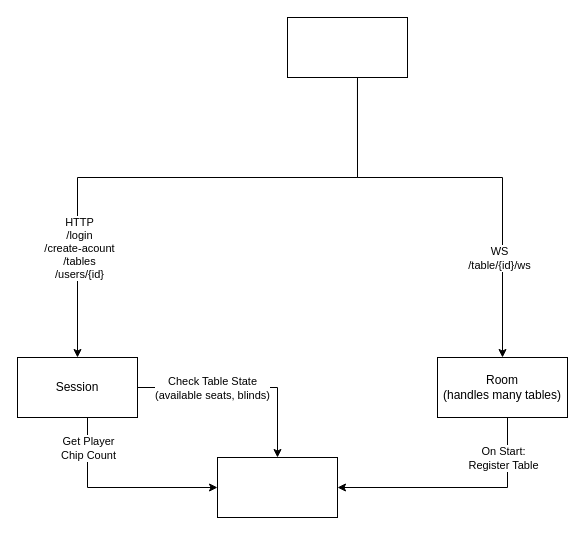
Some shapes in this 585 by 535 pixel diagram are drawn without their labels. Each missing label, with the centre of its shape:
"Client" belongs at pixel 347 47.
"DB" belongs at pixel 277 487.
